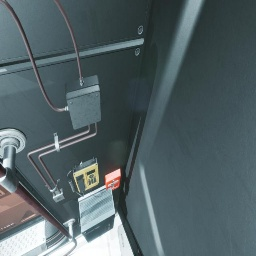EmergencyPhone ,: (67, 156, 99, 197)
FireAlarm ,: (105, 169, 121, 191)
